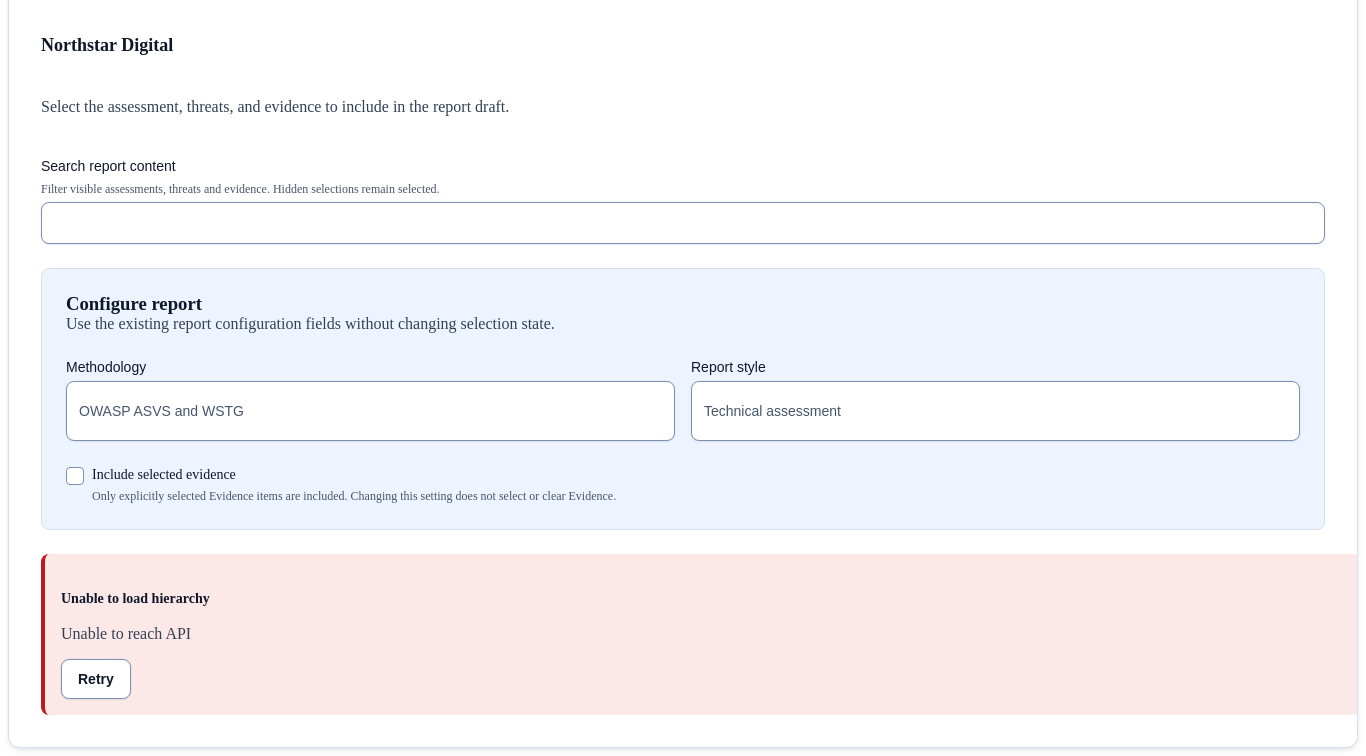
Test case: ReportBuilderTree async states › renders an error, retries, and then renders the empty state
The width and height of the screenshot is (1366, 756).
(page scrolled)
Click the button "Retry": (96, 679) [61,659,131,699]
(page scrolled)
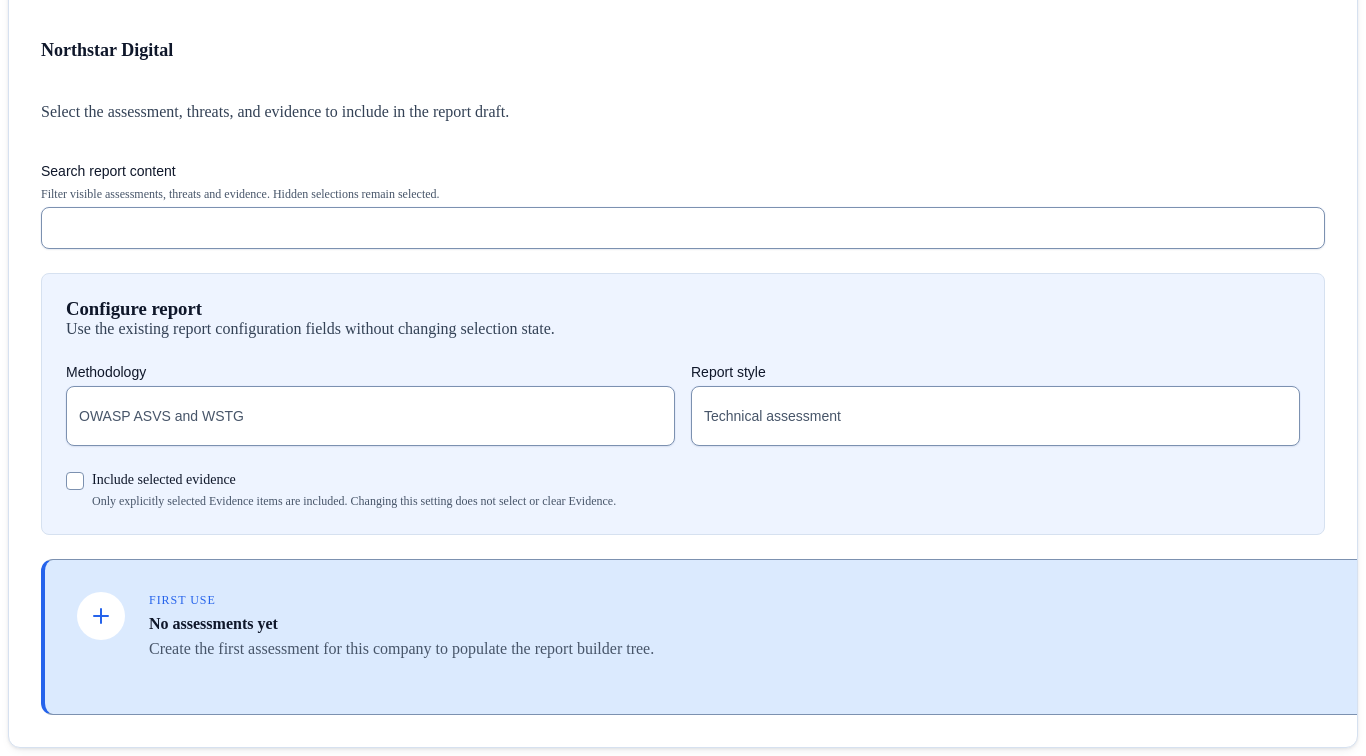
expect the heading "No assessments yet" is shown: met, box [149,615,278,632]
